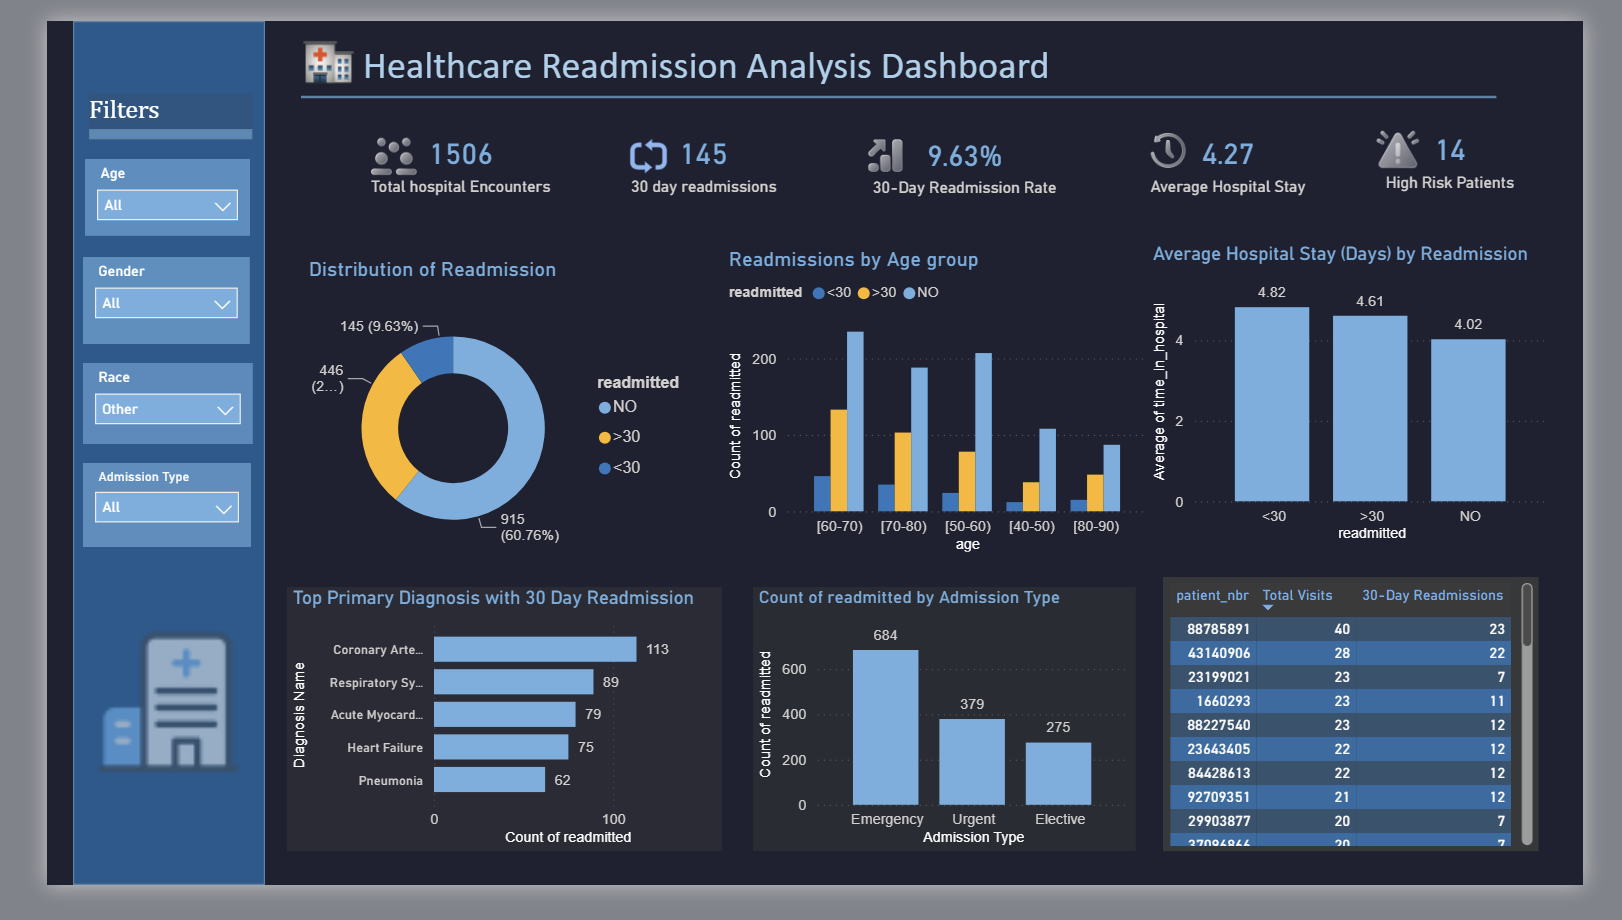

Layout of this report page (visuals, bound fields, positions):
{"tool":"powerbi","page":{"name":"Page 1","canvas":[1280,720],"ordinal":0},"visuals":[{"type":"clusteredColumnChart","title":"Readmissions by Age group","fields":{"Category":["diabetic_data_cleaned.age"],"Series":["diabetic_data_cleaned.readmitted"],"Y":["CountNonNull(diabetic_data_cleaned.readmitted)"]},"box":[562.5,188.8,358.8,258.8],"z":0},{"type":"card","fields":{"Values":["CountNonNull(diabetic_data_cleaned.readmitted)"]},"box":[246.2,78.8,196.2,78.8],"z":1000},{"type":"textbox","box":[258.8,11.2,911.2,72.5],"z":2000},{"type":"card","fields":{"Values":["diabetic_data_cleaned.30 day readm"]},"box":[436.2,78.8,221.2,78.8],"z":3000},{"type":"card","fields":{"Values":["diabetic_data_cleaned.30-Day Readmission Rate"]},"box":[648.8,80,232.5,77.5],"z":4000},{"type":"card","fields":{"Values":["diabetic_data_cleaned.Average Hospital Stay"]},"box":[881.2,78.8,205,78.8],"z":5000},{"type":"donutChart","title":"Distribution of Readmission","fields":{"Category":["diabetic_data_cleaned.readmitted"],"Y":["CountNonNull(diabetic_data_cleaned.readmitted)"]},"box":[213.8,196.2,336.2,266.2],"z":6000},{"type":"columnChart","title":"Average Hospital Stay (Days) by Readmission ","fields":{"Y":["Avg(diabetic_data_cleaned.time_in_hospital)"],"Category":["diabetic_data_cleaned.readmitted"]},"box":[916.2,185,340,253.8],"z":7000},{"type":"barChart","title":"Top Primary Diagnosis with 30 Day Readmission","fields":{"Y":["CountNonNull(diabetic_data_cleaned.readmitted)"],"Category":["diabetic_data_cleaned.Diagnosis Name"]},"box":[200,471.2,362.5,220],"z":8000},{"type":"columnChart","fields":{"Y":["CountNonNull(diabetic_data_cleaned.readmitted)"],"Category":["diabetic_data_cleaned.Admission Type"]},"box":[587.5,471.2,318.8,220],"z":9000},{"type":"card","fields":{"Values":["diabetic_data_cleaned.High Risk Patients"]},"box":[1086.2,78.8,165,71.2],"z":10000},{"type":"tableEx","fields":{"Values":["High Risk Patients.patient_nbr","High Risk Patients.Total Visits","High Risk Patients.30-Day Readmissions"]},"box":[930,462.9,312.9,228.6],"z":11000},{"type":"shape","box":[21.2,0,160,720],"z":12000},{"type":"shape","box":[211.2,37.5,996.2,50],"z":12001},{"type":"image","box":[916.2,87.5,35,38.8],"z":12002},{"type":"image","box":[267.5,87.5,41.2,48.8],"z":12003},{"type":"image","box":[207.5,1.2,51.2,61.2],"z":12004},{"type":"image","box":[681.2,87.5,33.8,48.8],"z":12005},{"type":"image","box":[41.2,486.2,118.8,161.2],"z":12006},{"type":"image","box":[485,67.5,32.5,88.8],"z":12007},{"type":"image","box":[1105,88.8,41.2,38.8],"z":12008},{"type":"slicer","fields":{"Values":["diabetic_data_cleaned.age"]},"box":[31.2,115,137.5,63.8],"z":12009},{"type":"shape","title":"Filters","box":[35,60,136.2,38.8],"z":12010},{"type":"slicer","fields":{"Values":["diabetic_data_cleaned.gender"]},"box":[30,196.2,138.8,72.5],"z":12011},{"type":"slicer","fields":{"Values":["diabetic_data_cleaned.race"]},"box":[30,285,141.2,67.5],"z":12012},{"type":"slicer","fields":{"Values":["diabetic_data_cleaned.Admission Type"]},"box":[30,368.8,140,70],"z":12013}]}

Visuals, with their boxes in screenshot pixels (x1, y1, x2, y2), scaled from the page's 1280x720 canvas onto the 1622x920 screenshot:
"Readmissions by Age group" clusteredColumnChart: 713:241:1167:572
card - CountNonNull(diabetic_data_cleaned.readmitted): 312:101:561:201
textbox: 328:14:1483:107
card - diabetic_data_cleaned.30 day readm: 553:101:833:201
card - diabetic_data_cleaned.30-Day Readmission Rate: 822:102:1117:201
card - diabetic_data_cleaned.Average Hospital Stay: 1117:101:1376:201
"Distribution of Readmission" donutChart: 271:251:697:591
"Average Hospital Stay (Days) by Readmission " columnChart: 1161:236:1592:561
"Top Primary Diagnosis with 30 Day Readmission" barChart: 253:602:713:883
columnChart - CountNonNull(diabetic_data_cleaned.readmitted) x diabetic_data_cleaned.Admission Type: 744:602:1148:883
card - diabetic_data_cleaned.High Risk Patients: 1376:101:1586:192
tableEx - High Risk Patients.patient_nbr x High Risk Patients.Total Visits: 1178:591:1575:884
shape: 27:0:230:919
shape: 268:48:1530:112
image: 1161:112:1205:161
image: 339:112:391:174
image: 263:2:328:80
image: 863:112:906:174
image: 52:621:203:827
image: 615:86:656:200
image: 1400:113:1452:163
slicer - diabetic_data_cleaned.age: 40:147:214:228
"Filters" shape: 44:77:217:126
slicer - diabetic_data_cleaned.gender: 38:251:214:343
slicer - diabetic_data_cleaned.race: 38:364:217:450
slicer - diabetic_data_cleaned.Admission Type: 38:471:215:561
